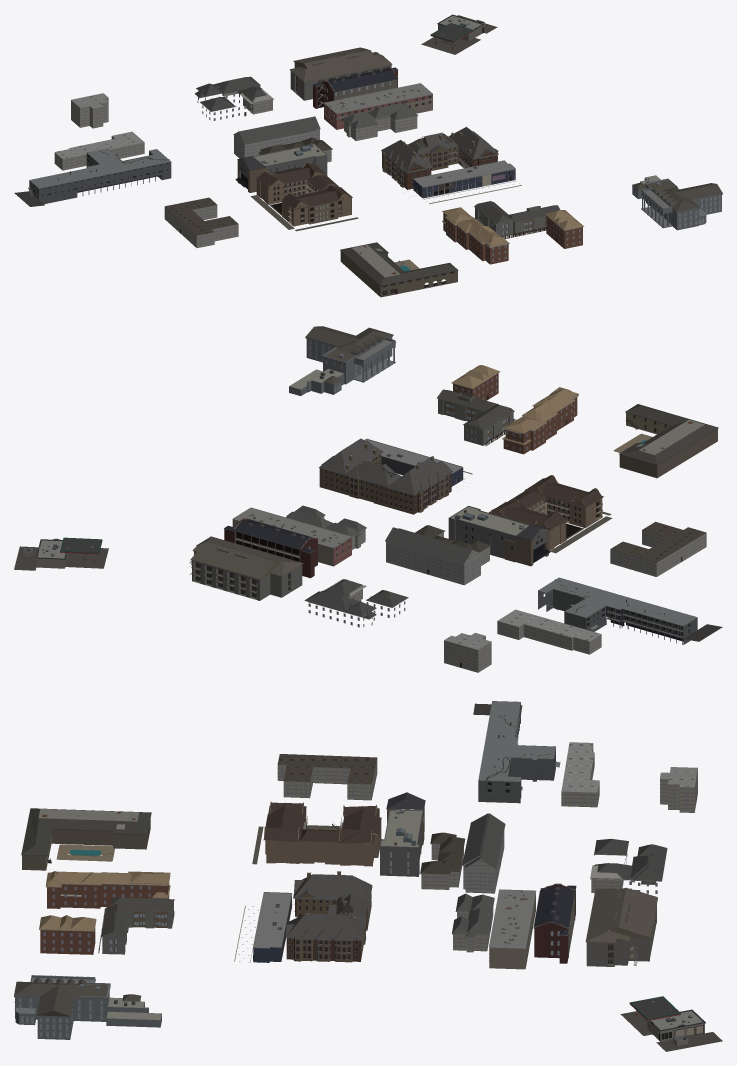
3 renders of one model, top to bottom at view 1: azimuth 30°, elevation 25°; view 2: azimuth 150°, elevation 25°; view 3: azimuth 270°, elevation 25°, orthographic. The views are drawn at different scales.
Parts seen in each view (by area): view 1: opaque (×9), glass (×2); view 2: opaque (×10), glass (×2); view 3: opaque (×10), glass (×2).
Boxes of the visible parts, x1=… form: opaque (×9): x1=14, y1=14, x2=722, y2=297; glass (×2): x1=33, y1=28, x2=720, y2=294; opaque (×10): x1=14, y1=326, x2=722, y2=672; glass (×2): x1=196, y1=339, x2=704, y2=669; opaque (×10): x1=14, y1=701, x2=722, y2=1051; glass (×2): x1=19, y1=746, x2=697, y2=1040.
Bounding box in the file's own units: 296 × 17.25 × 262.
17 materials, 17 textured.
